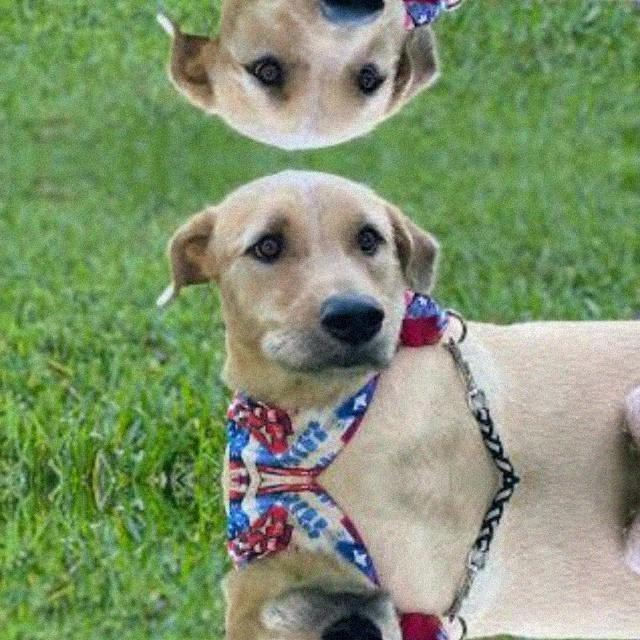dog: (165, 170, 453, 388), (165, 0, 453, 150), (165, 572, 453, 640)
